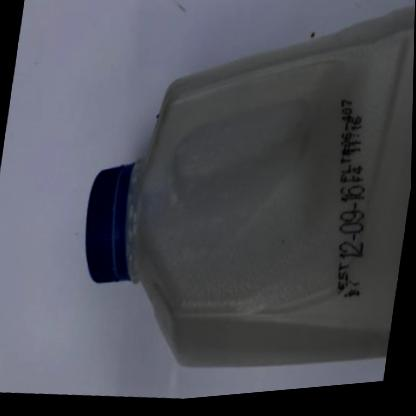Plastic: (86, 15, 415, 371)
